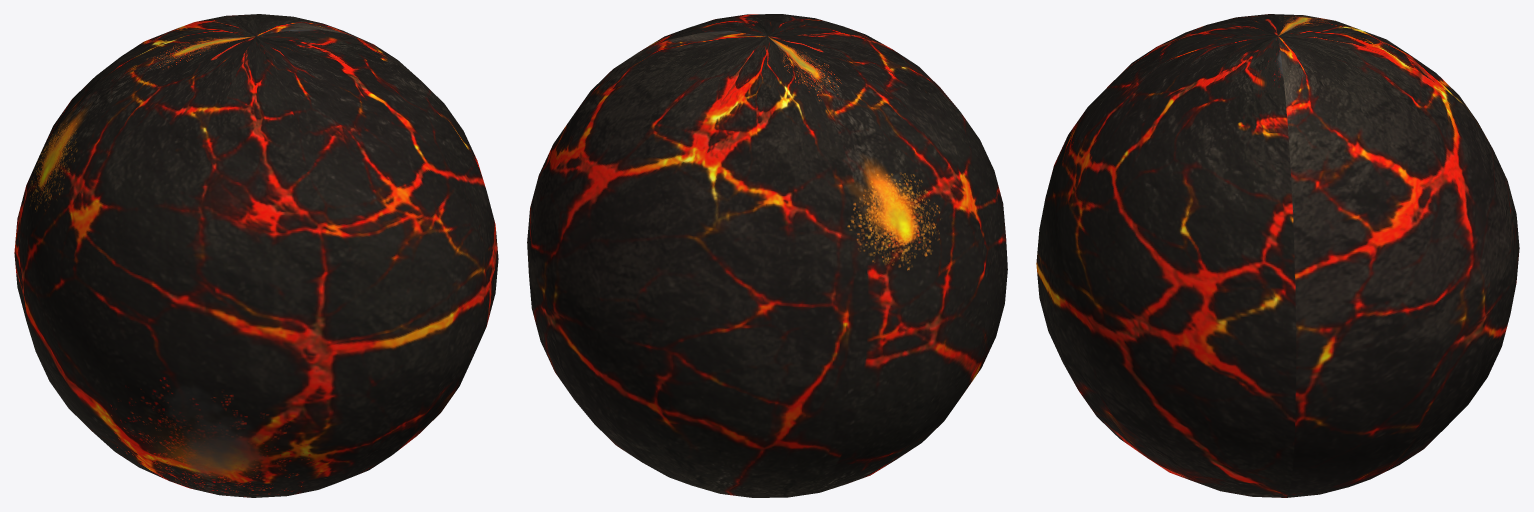
File: Lava.obj
The picture shows the model from 3 angles, left to right: view 1: azimuth 30°, elevation 25°; view 2: azimuth 150°, elevation 25°; view 3: azimuth 270°, elevation 25°; orthographic projection.
Parts seen in each view (by area): view 1: pSphere2; view 2: pSphere2; view 3: pSphere2.
Part boxes in pixels (box(x1,y1,x2,y2)): pSphere2: box(14, 14, 498, 497); pSphere2: box(527, 14, 1007, 497); pSphere2: box(1036, 14, 1519, 497).
Bounding box in the file's own units: 19.94 × 20 × 19.94.
Materials: 1 (1 with a texture image).
